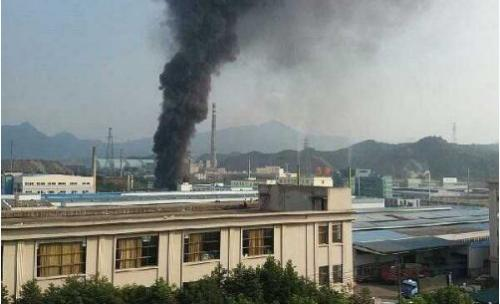smoke: (151, 1, 251, 187)
